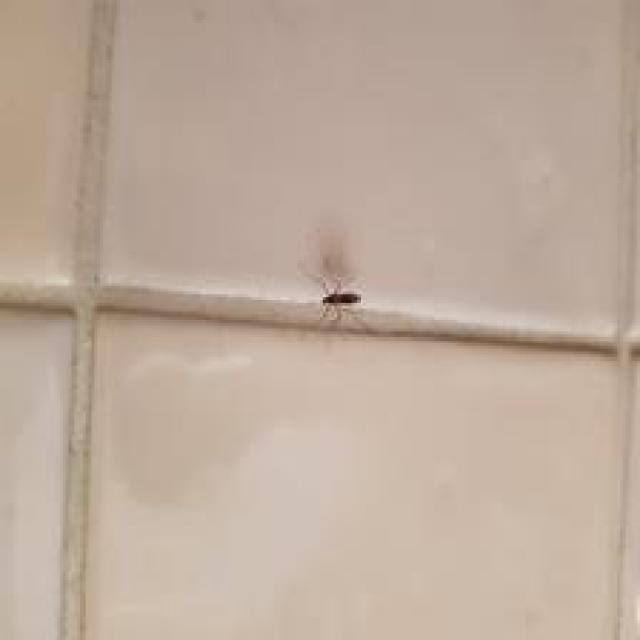Culex: (296, 228, 364, 323)
